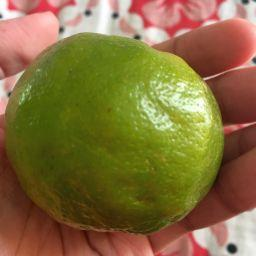Unripe: (4, 32, 225, 230)
